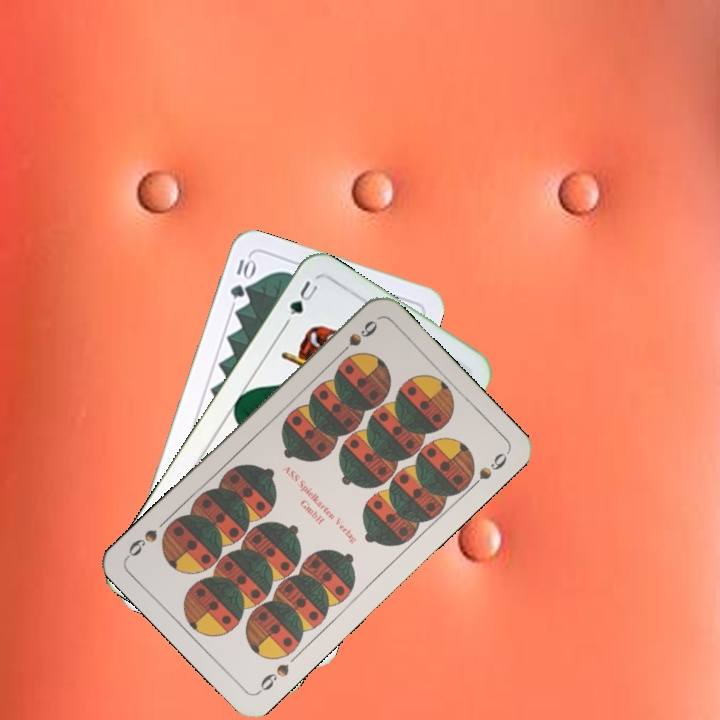G10: (226, 253, 257, 301)
GU: (285, 276, 322, 318)
S9: (333, 316, 380, 360), (253, 660, 292, 696)
